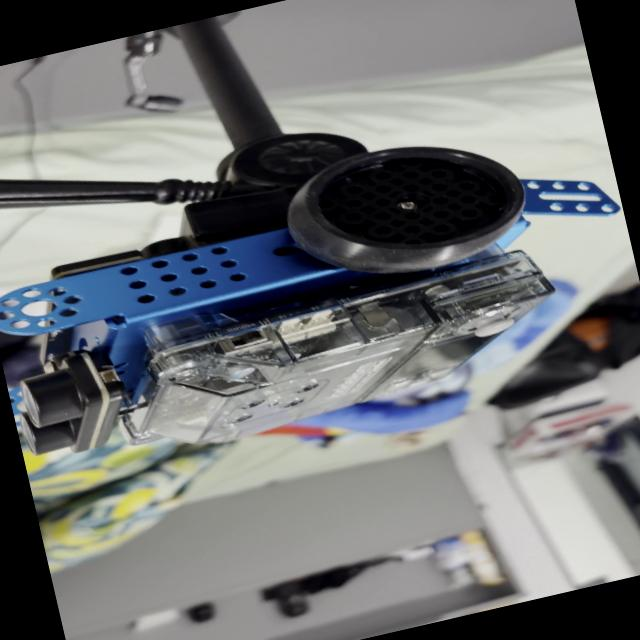mbot-detection: (0, 91, 640, 492)
